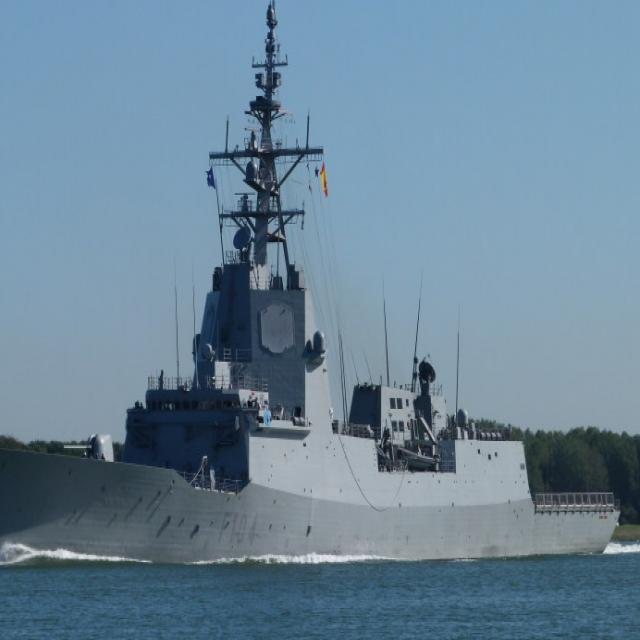Fragata: (1, 1, 619, 571)
